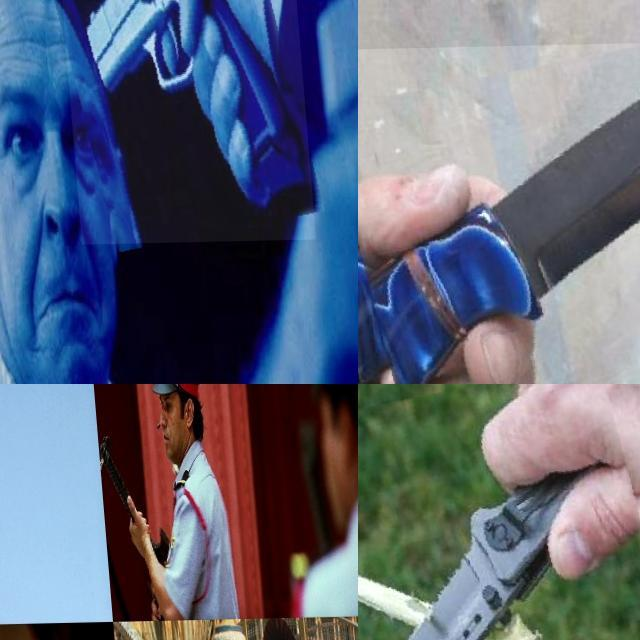-: (358, 42, 640, 384), (358, 384, 640, 640)
gun-knife-thesis - v11 Yolov5 augmented: (59, 0, 311, 245), (95, 424, 171, 618), (0, 453, 39, 611)
